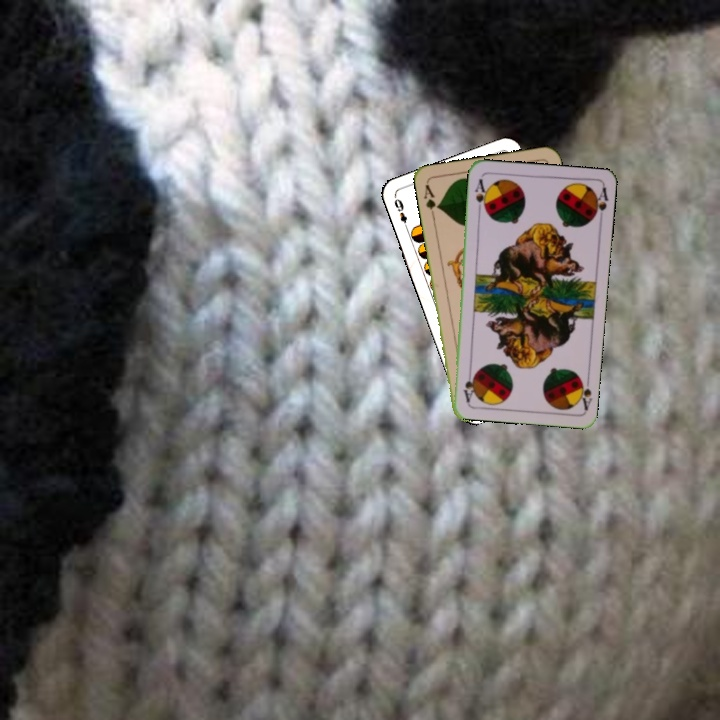E9: (390, 193, 411, 232)
GA: (420, 180, 442, 220)
SA: (574, 371, 594, 413), (471, 175, 490, 215)
